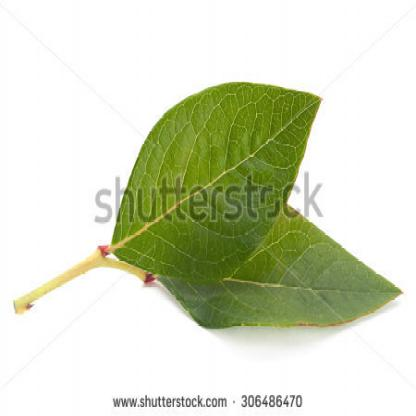Blueberry leaf: (112, 81, 415, 343)
